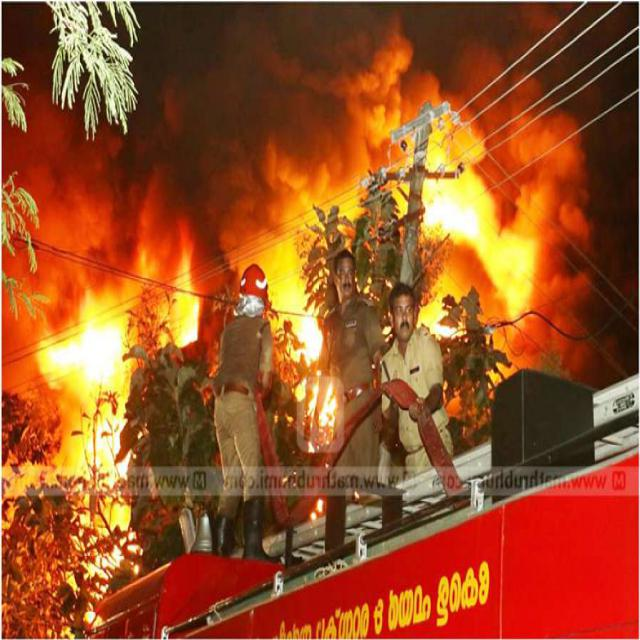fire: (422, 123, 543, 342), (31, 280, 136, 404), (284, 286, 340, 440), (76, 407, 134, 509), (75, 537, 137, 628), (164, 245, 207, 358)
